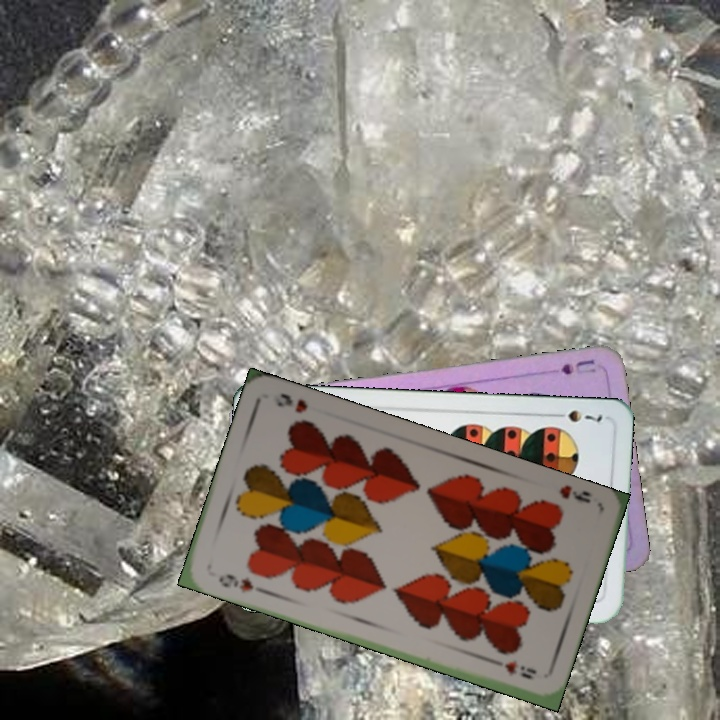H9: (215, 569, 265, 596), (555, 481, 596, 506)
S7: (548, 406, 605, 425)
SU: (556, 356, 598, 378)
